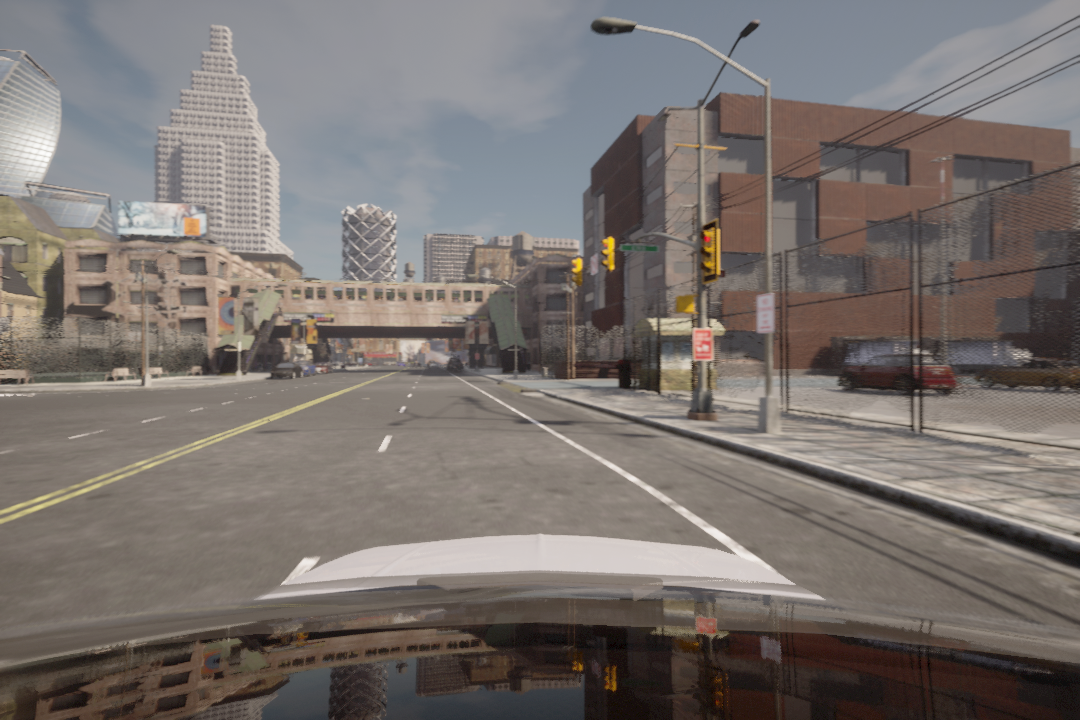TrafficLight: (699, 225, 721, 279), (600, 234, 616, 272), (569, 257, 584, 283)
